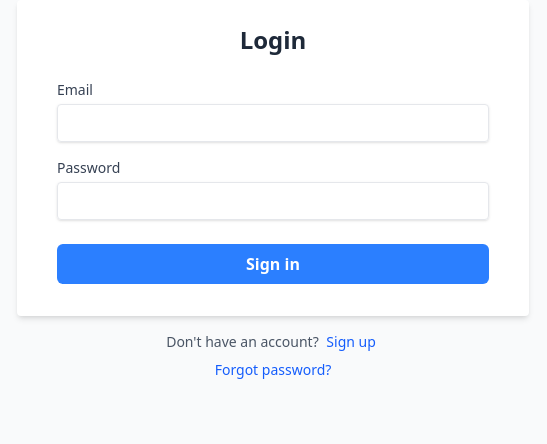
Login Component › shows validation error for invalid email
Step 1. Type "invalid-email" into the field named "Email" → (273, 123), box [57,104,489,142]
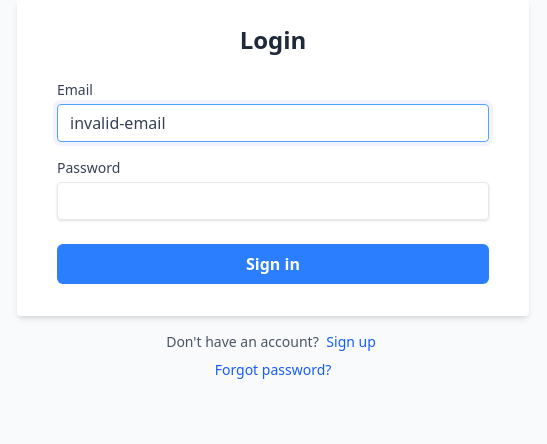
Step 2. Click the button "Sign in" → (273, 264), box [57,244,489,284]
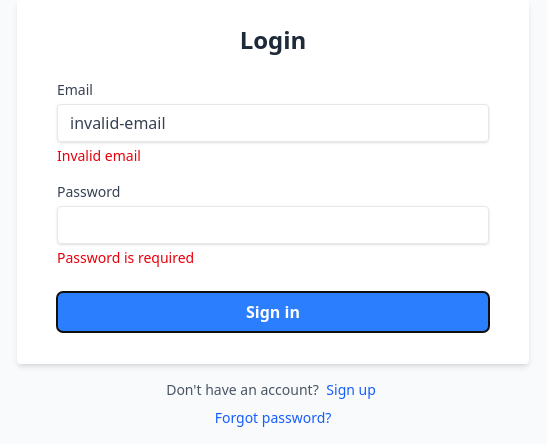
Expected: the text "Invalid email" is shown, [57,146,141,165]
